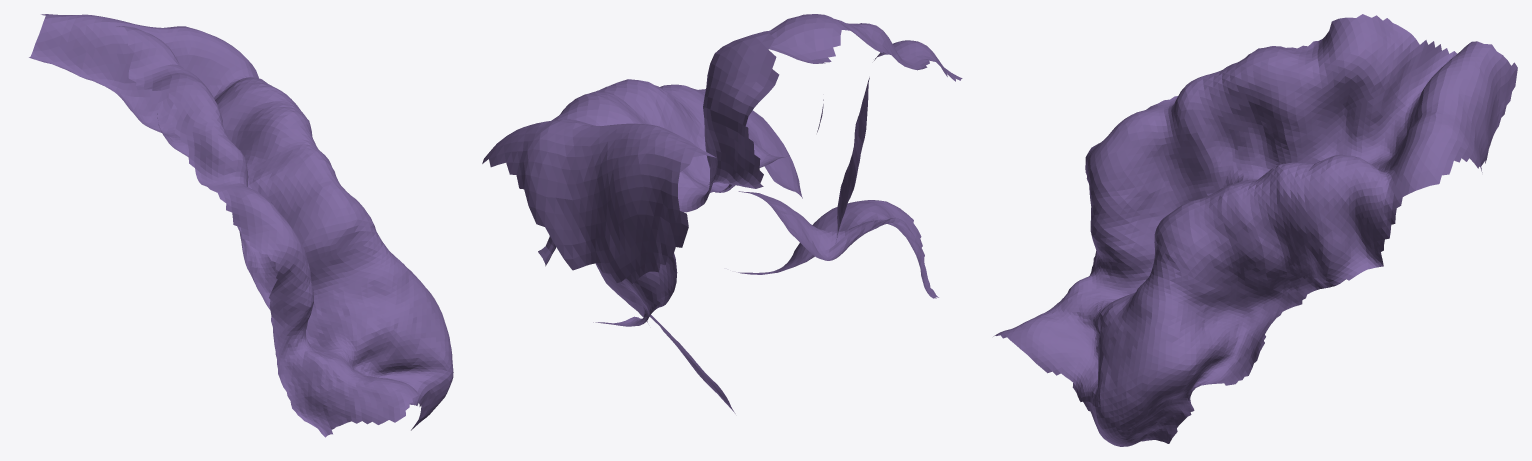
Rendered from rh_rostralmiddlefrontal.glb.
3 renders of one model, left to right at view 1: azimuth 30°, elevation 25°; view 2: azimuth 150°, elevation 25°; view 3: azimuth 270°, elevation 25°, orthographic. The views are drawn at different scales.
Parts seen in each view (by area): view 1: world; view 2: world; view 3: world.
Boxes of the visible parts, <box> form: world: <box>29,14,453,437</box>; world: <box>482,14,962,413</box>; world: <box>993,14,1517,446</box>.
Size of the model in its own units: 37.62 by 52.2 by 67.04.
